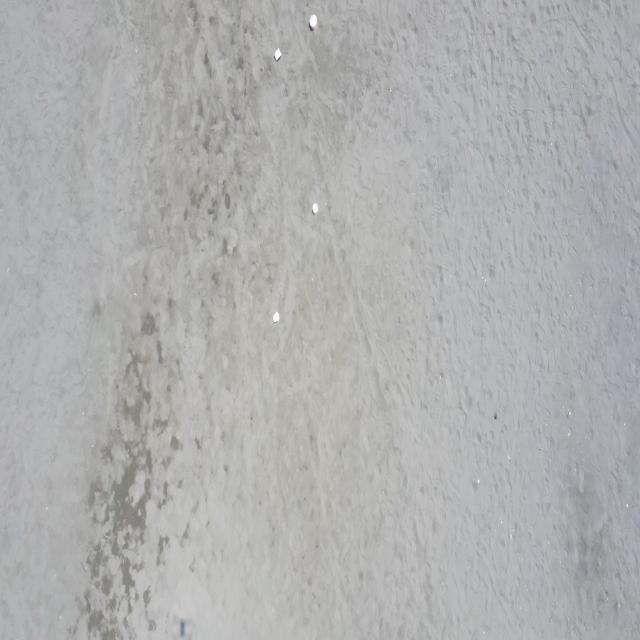take-away-containers: (309, 14, 318, 32), (274, 47, 282, 62), (272, 310, 280, 324), (312, 203, 318, 215)
